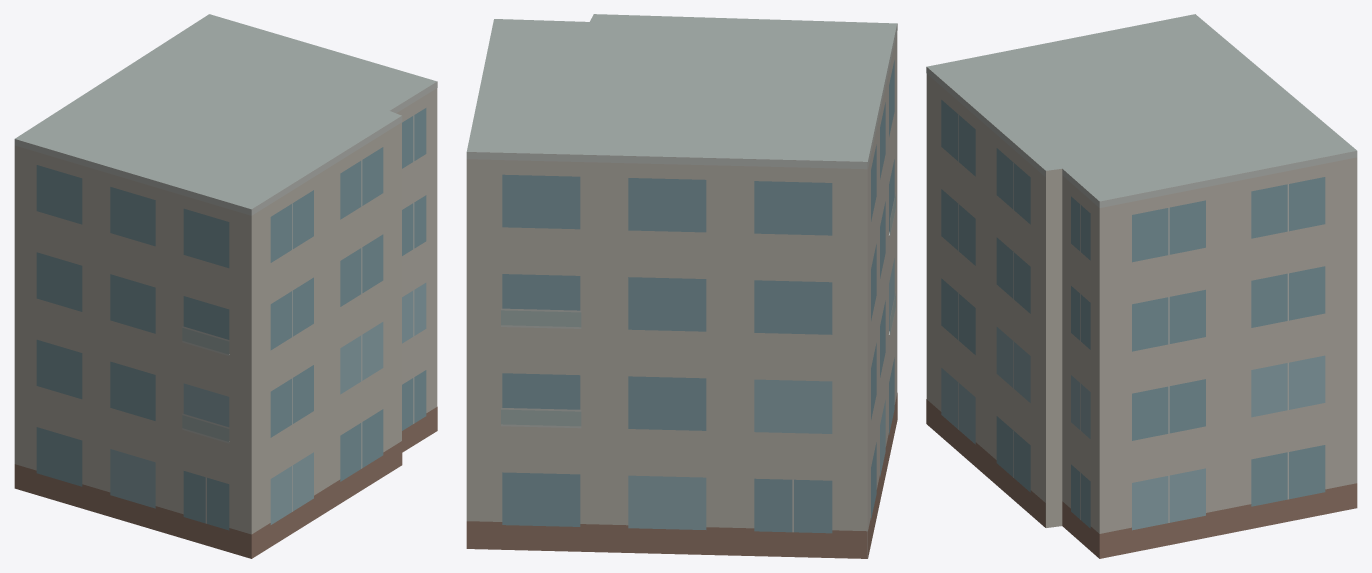
The model's file is survey-upis-32732596.glb.
3 renders of one model, left to right at view 1: azimuth 30°, elevation 25°; view 2: azimuth 150°, elevation 25°; view 3: azimuth 270°, elevation 25°, orthographic. The views are drawn at different scales.
Visible parts, largest first — view 1: survey-upis-32732596.tmp; view 2: survey-upis-32732596.tmp; view 3: survey-upis-32732596.tmp.
Boxes of the visible parts, x1,y1,x2,y2 form: survey-upis-32732596.tmp: (14,14,437,558); survey-upis-32732596.tmp: (466,14,897,558); survey-upis-32732596.tmp: (926,14,1357,558).
Size of the model in its own units: 14.87 by 13.2 by 14.44.
